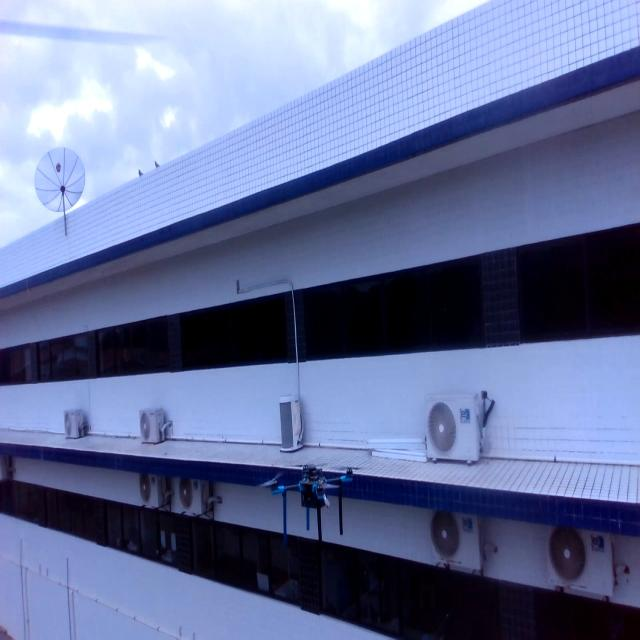-uav-: (258, 446, 364, 557)
